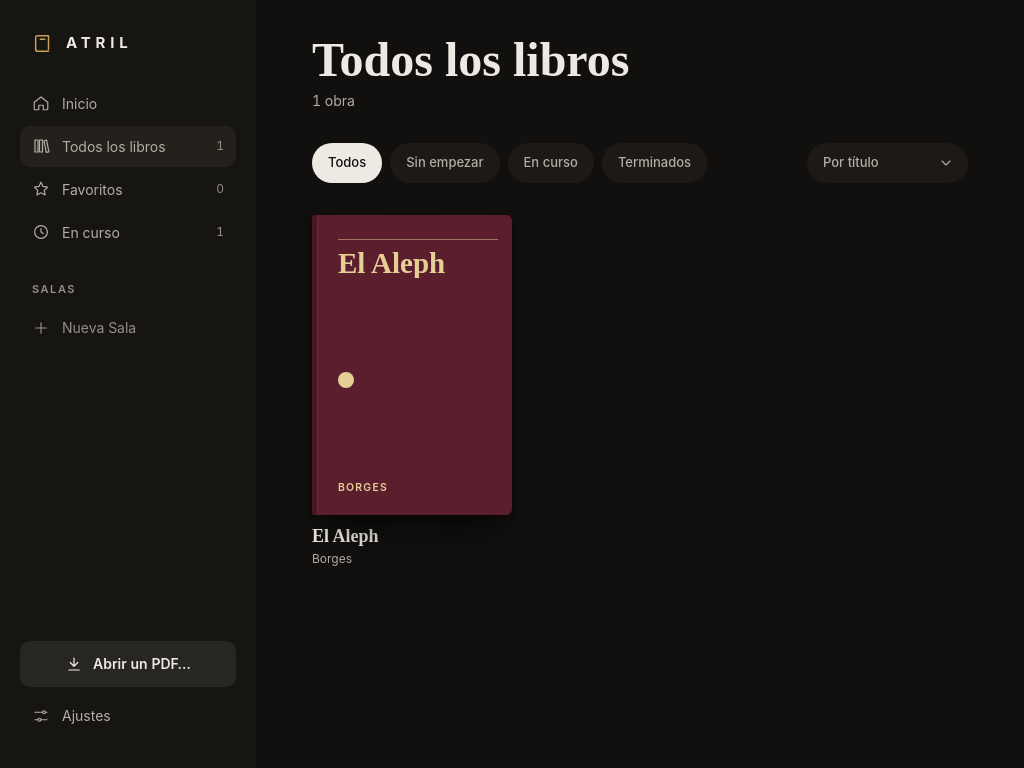
Test: lists with nothing to show › a status filter that leaves nothing can be lifted
Click the button "Terminados" at (654, 163), box [602,143,707,182]
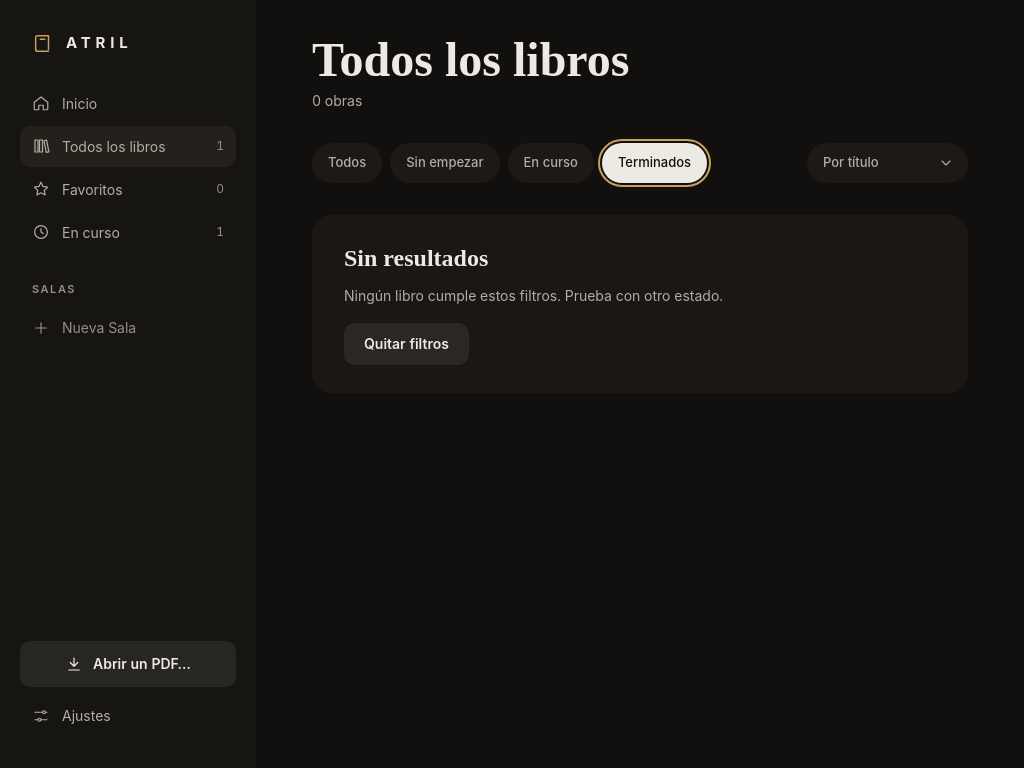
Check: the text "Ningún libro cumple estos filtros. Prueba con otro estado." is shown, box [344,286,723,304]
Click the button "Quitar filtros" at (406, 344), box [344,323,469,365]
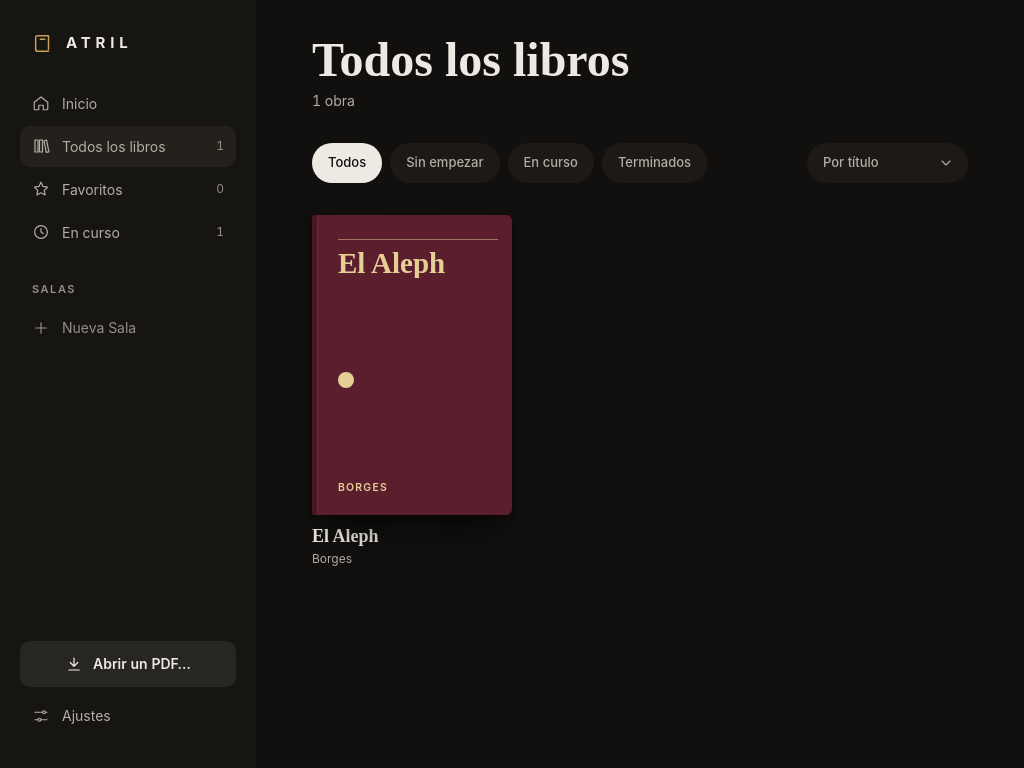
Check: the 1st text "El Aleph" is shown, box [338,246,445,278]
